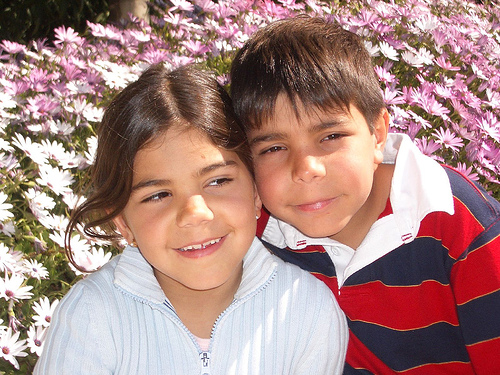without_mask: (107, 126, 261, 294), (243, 92, 391, 238)
